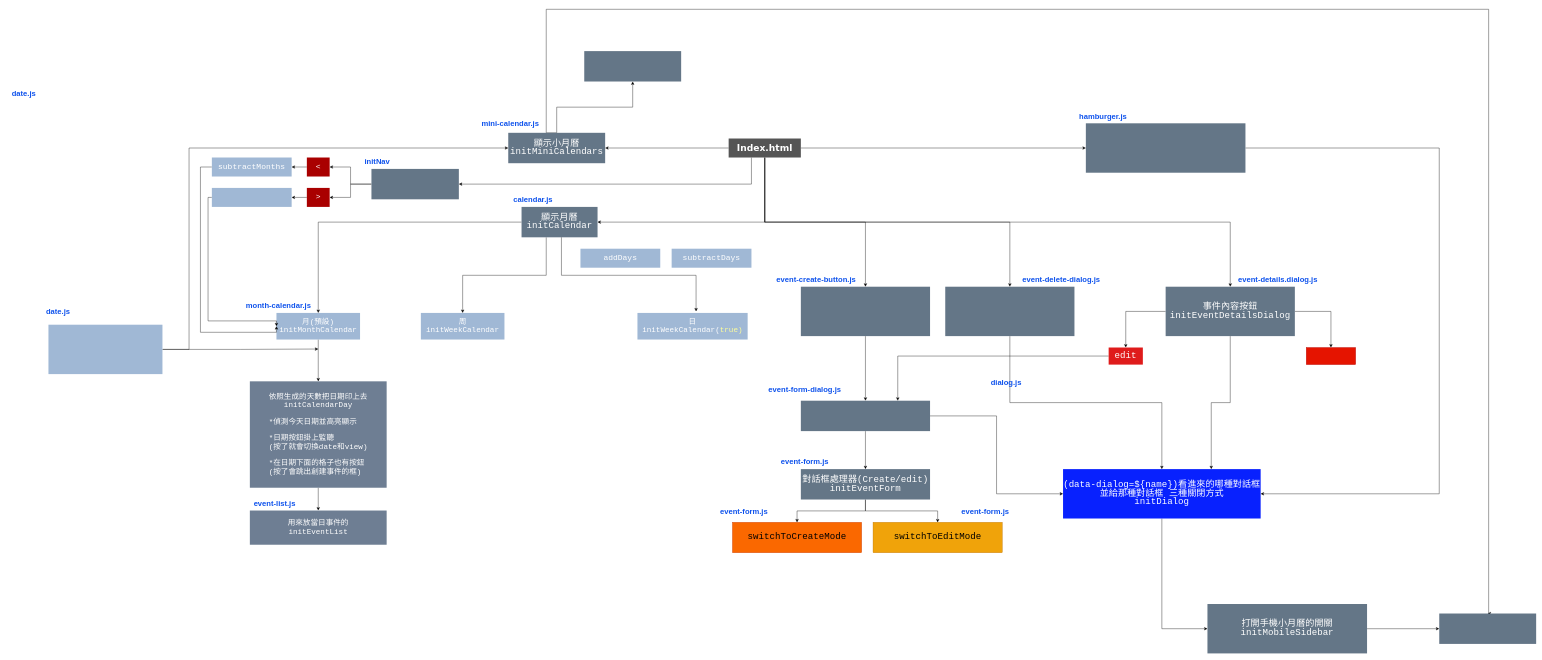
The diagram is 1542 pixels wide and 660 high, and some of its shapes have lost their labels. The shapes that lost their labels are listed below. From the top down, each one's centre as x and y in pixels, then its label:
At [632,66]: "網頁版小月曆".
At [1165,148]: "三條月曆按鈕(手機模式才會跑出來) initHamburger".
At [251,197]: "addMonths".
At [415,184]: "月份(週 天)切換器 initNav".
At [865,311]: "創建事件按鈕 initEventCreateButtons 會因為點到的日期 預設創建日期會變".
At [1009,311]: "刪除事件按鈕 initEventDeleteDialog".
At [105,349]: "計算月份天數 前一個月和下一個月 補足月曆版面 generateMonthCalendarDays".
At [1331,356]: "delete".
At [865,416]: "事件對話框(Create/edit) initEventFormDialog".
At [1487,628]: "手機版的小月曆".
